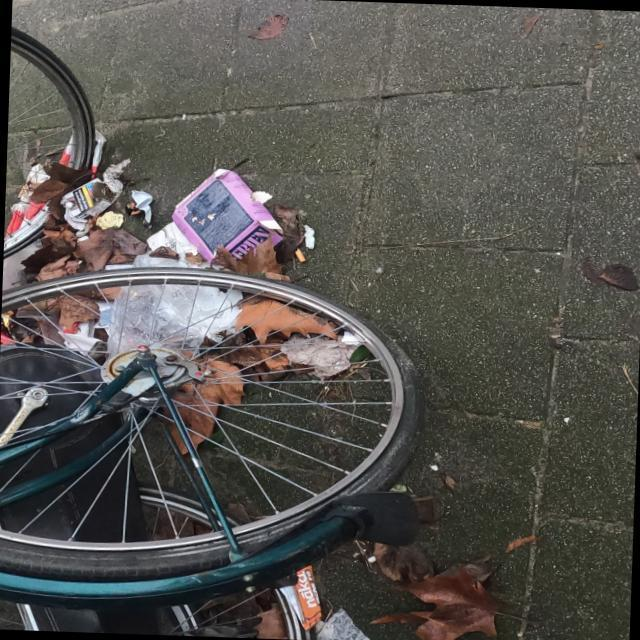Cardboard: (170, 167, 286, 267)
Paper: (59, 176, 120, 232), (146, 220, 198, 262), (314, 604, 371, 640), (102, 157, 131, 196)
Plastic: (279, 564, 322, 632)
